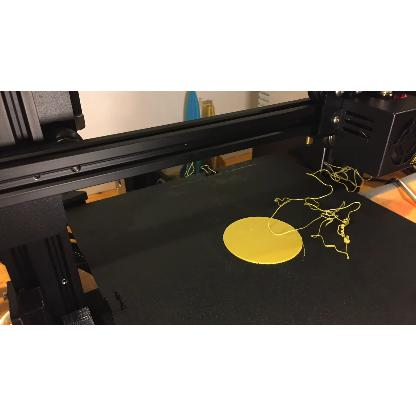fail: (305, 164, 361, 262)
